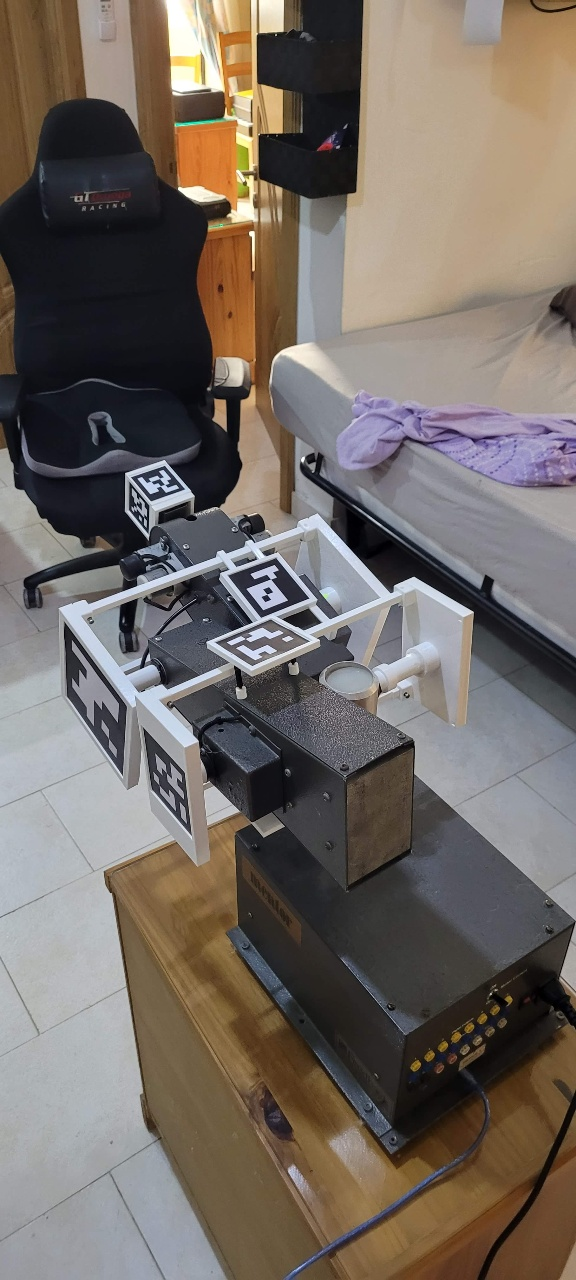Robot: (40, 312, 567, 1105)
